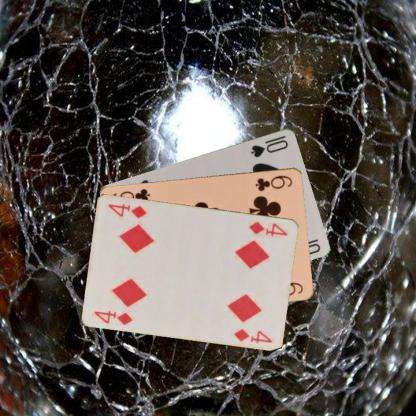10s: (248, 137, 289, 158)
4d: (247, 219, 289, 238), (92, 308, 134, 326)
6c: (253, 172, 294, 192)
